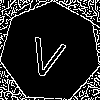V: (25, 27, 70, 80)
